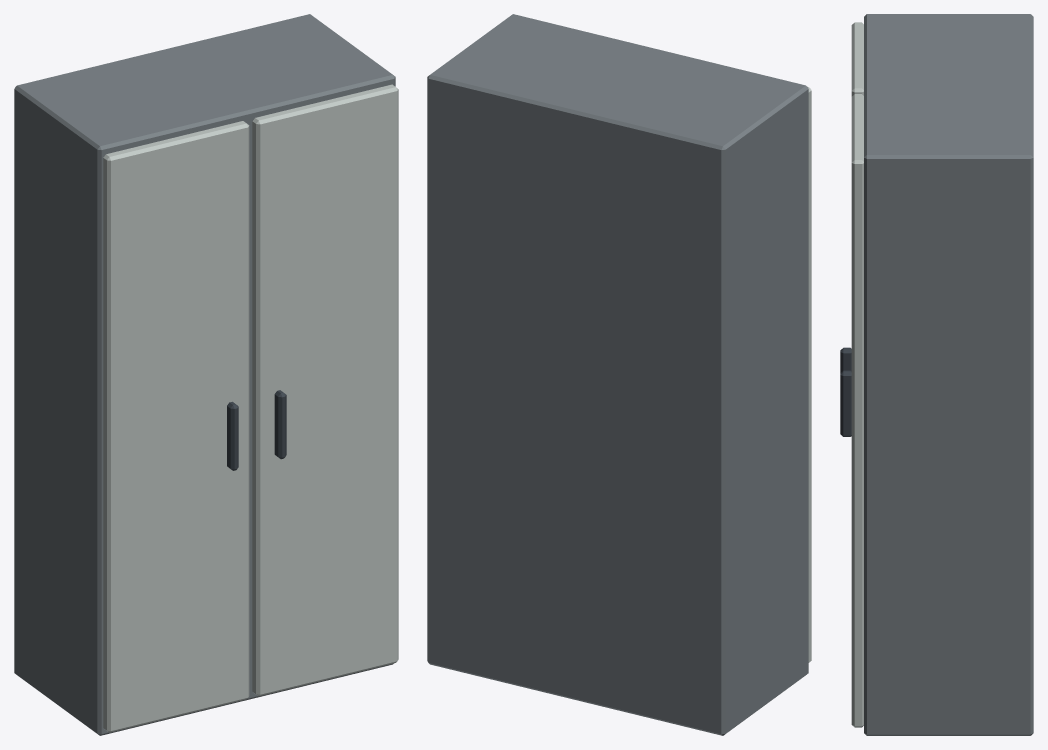
The model's file is TallCabinet.fbx.
3 renders of one model, left to right at view 1: azimuth 30°, elevation 25°; view 2: azimuth 150°, elevation 25°; view 3: azimuth 270°, elevation 25°, orthographic.
Parts seen in each view (by area): view 1: TallCabinet; view 2: TallCabinet; view 3: TallCabinet.
Part boxes in pixels (x1,y1,x2,y2): TallCabinet: (14,14,398,735); TallCabinet: (427,14,811,735); TallCabinet: (840,14,1033,735).
Bounding box in the file's own units: 90 × 170 × 51.25.
1 material, 1 textured.
